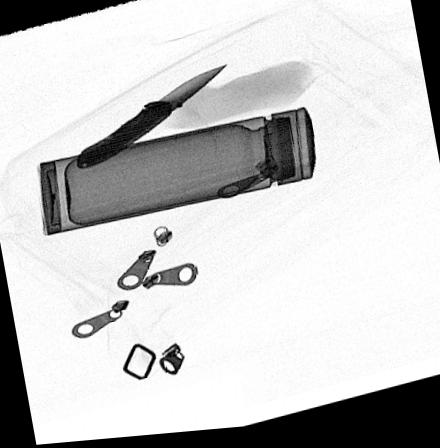Knife: (69, 66, 231, 171)
